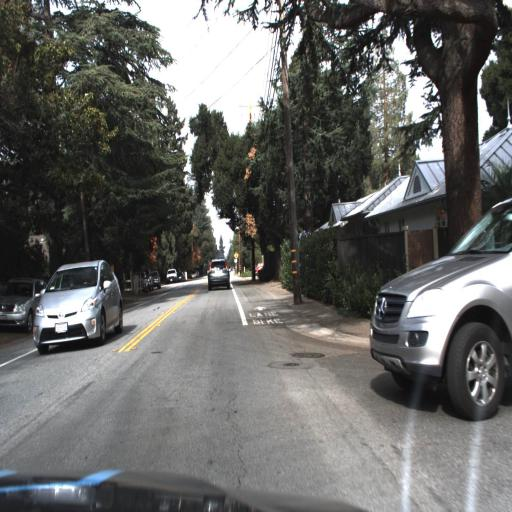car: (368, 192, 512, 423), (32, 258, 124, 357), (0, 276, 49, 331), (206, 255, 230, 292), (162, 262, 180, 288), (151, 267, 163, 292)
